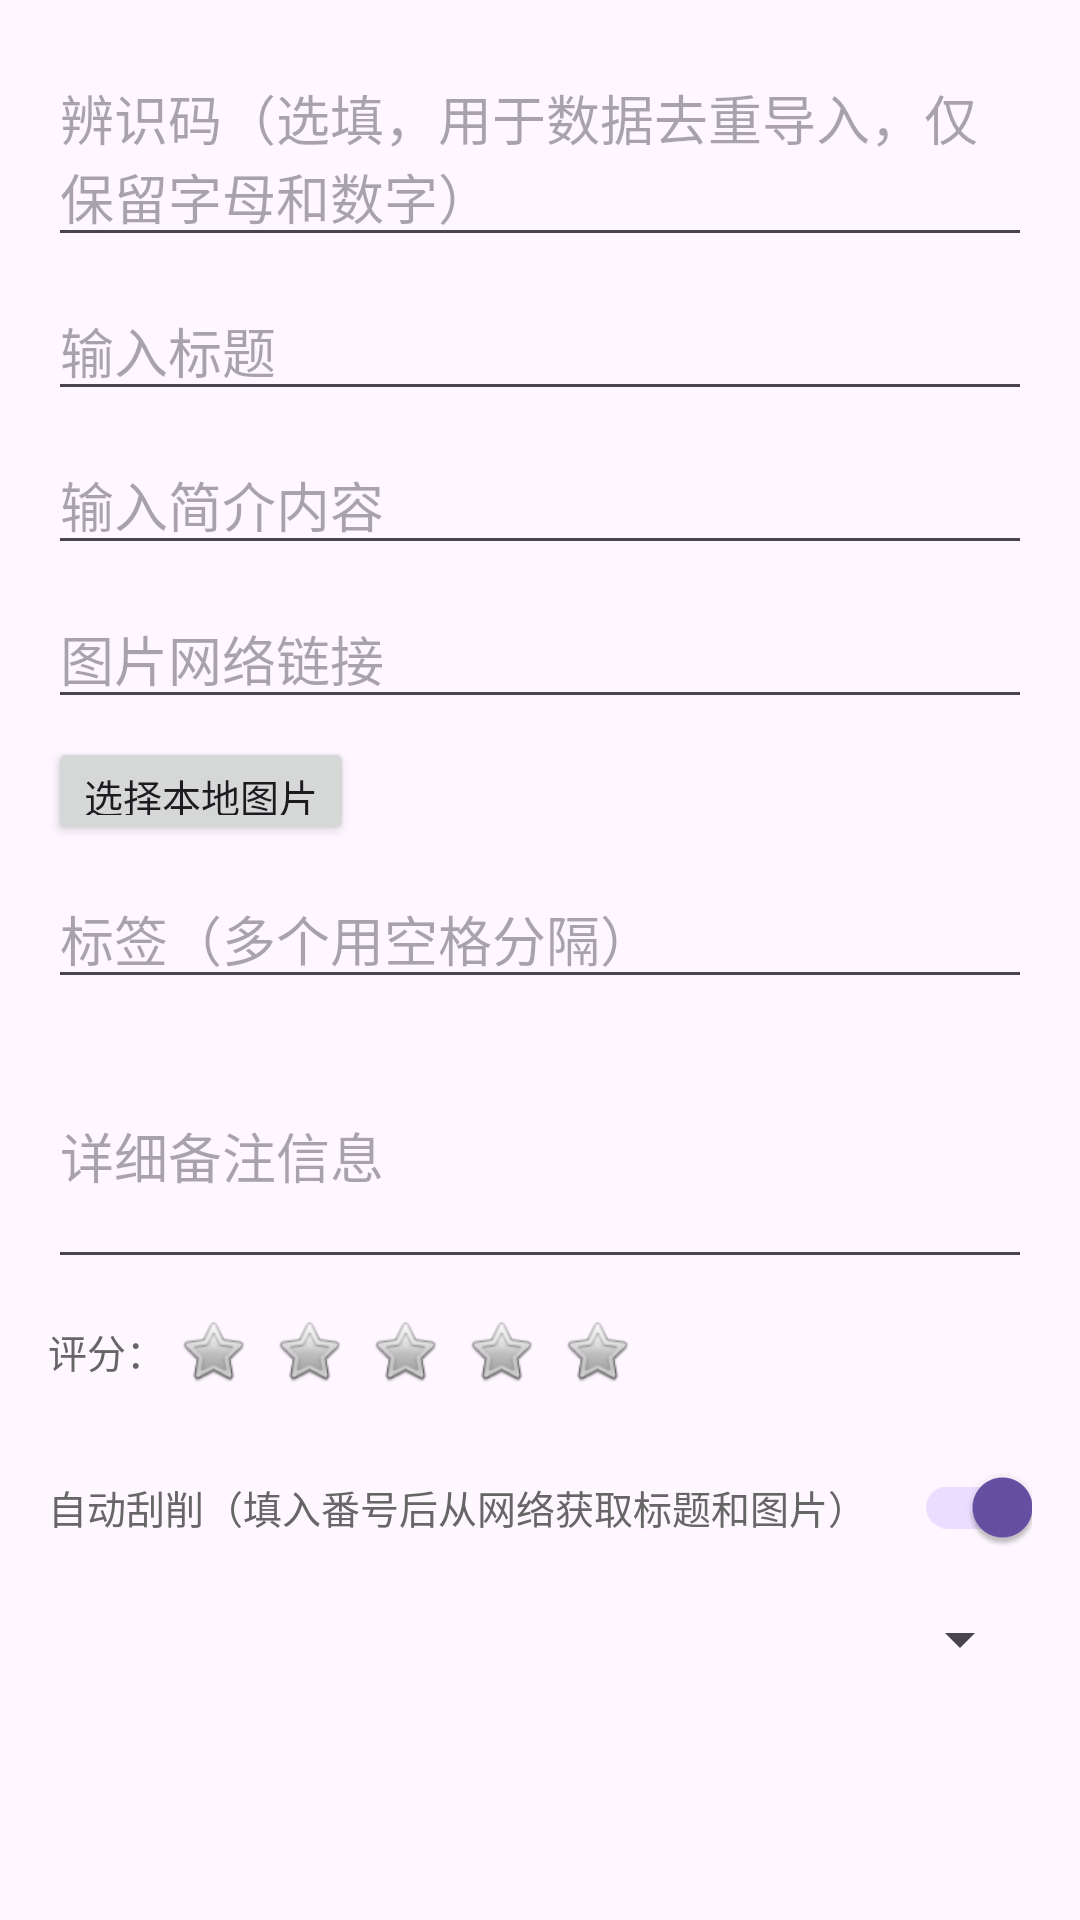

Icon click points for this 1080 × 1920 phone screenshot, format point (x, y):
star off: point (214, 1351), point (310, 1351), point (406, 1351), point (502, 1351), point (598, 1351)
